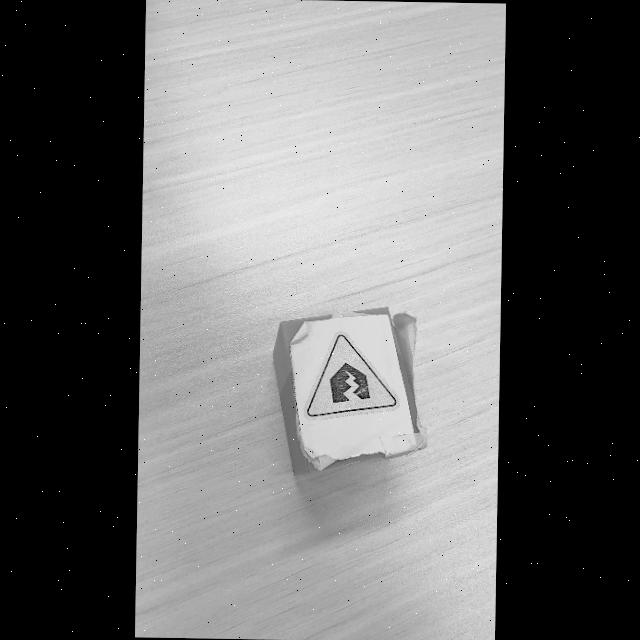Earthquake: (306, 334, 398, 418)
